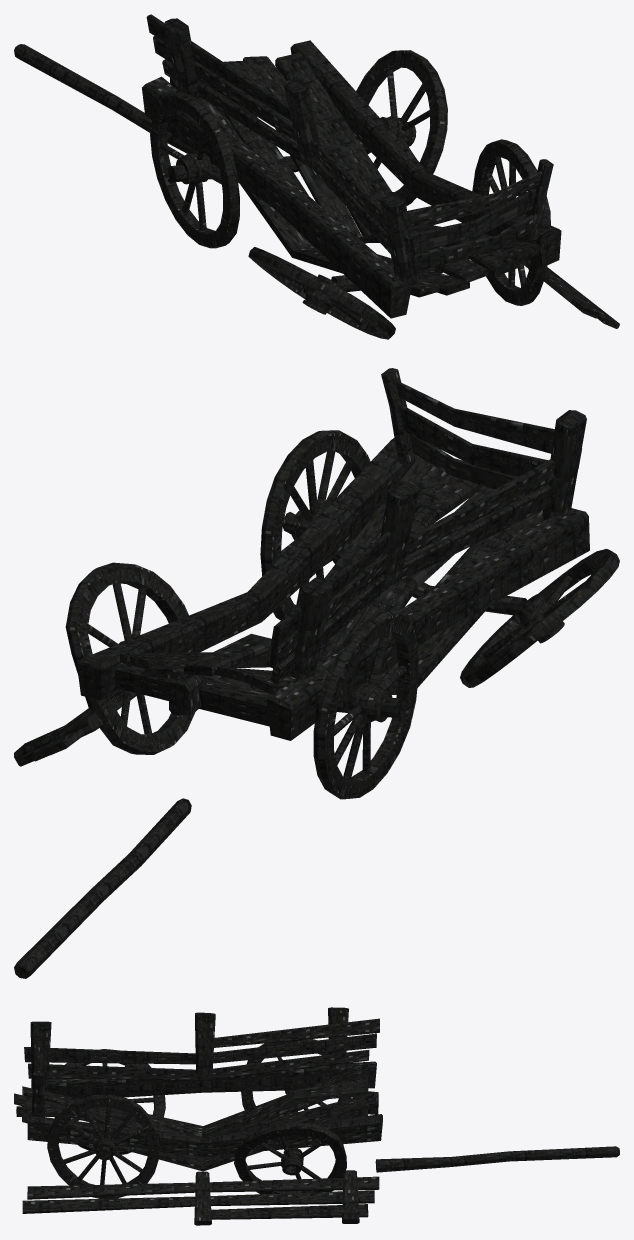
Rendered from 1_BURNT_01_2-transformed.glb.
3 renders of one model, top to bottom at view 1: azimuth 30°, elevation 25°; view 2: azimuth 150°, elevation 25°; view 3: azimuth 270°, elevation 25°, orthographic. The views are drawn at different scales.
Parts seen in each view (by area): view 1: default; view 2: default; view 3: default.
Boxes of the visible parts, <box> form: default: <box>14,14,619,339</box>; default: <box>14,368,619,978</box>; default: <box>14,1007,619,1225</box>.
Size of the model in its own units: 2.64 by 1.63 by 6.33.
1 material, 1 textured.
